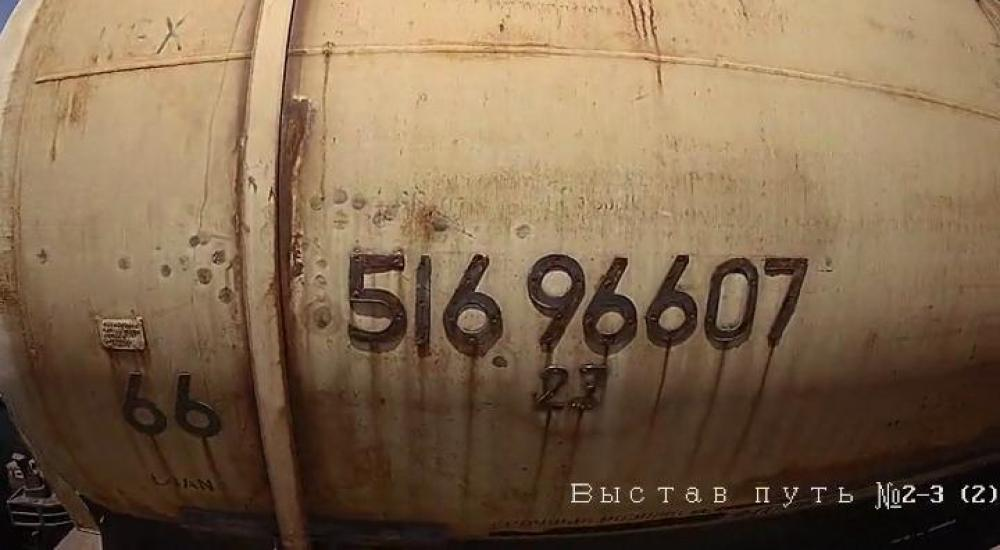Wagon-number: (339, 246, 816, 363)
